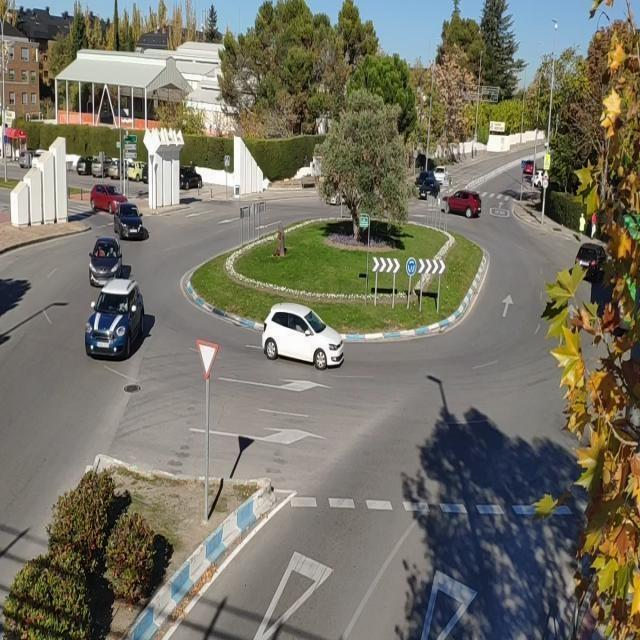Car: (262, 300, 346, 371), (83, 277, 145, 359), (87, 236, 123, 287), (440, 190, 484, 219), (112, 203, 144, 238), (91, 184, 128, 214), (575, 244, 606, 279), (179, 165, 203, 188), (91, 155, 114, 179), (417, 178, 441, 200), (125, 162, 146, 182), (76, 154, 91, 176), (433, 164, 447, 184), (531, 169, 544, 189), (523, 160, 537, 173)
